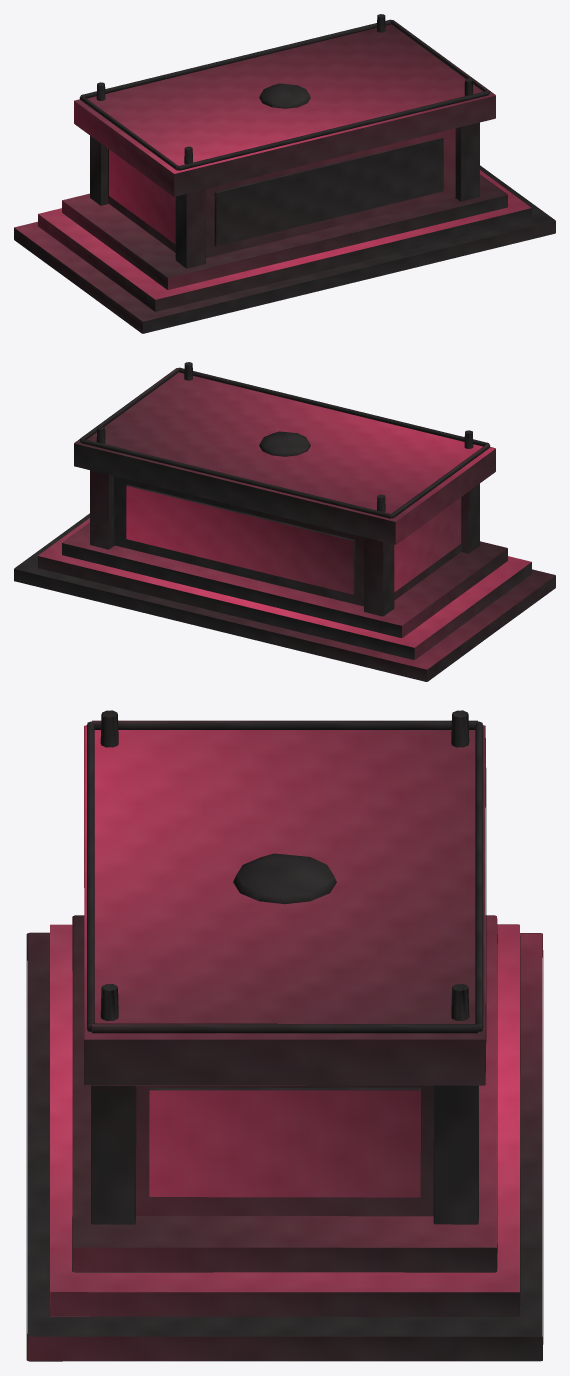
The model's file is StoneAltar_Ritual_LOD2.glb.
3 renders of one model, top to bottom at view 1: azimuth 30°, elevation 25°; view 2: azimuth 150°, elevation 25°; view 3: azimuth 270°, elevation 25°, orthographic. The views are drawn at different scales.
Visible parts, largest first — view 1: StoneAltar_Ritual_LOD2; view 2: StoneAltar_Ritual_LOD2; view 3: StoneAltar_Ritual_LOD2.
Part boxes in pixels (box(x1,y1,x2,y2)): StoneAltar_Ritual_LOD2: box(14, 14, 555, 333); StoneAltar_Ritual_LOD2: box(14, 362, 555, 681); StoneAltar_Ritual_LOD2: box(26, 710, 543, 1361).
Size of the model in its own units: 3.26 by 1.17 by 1.76.
1 material, 1 textured.
